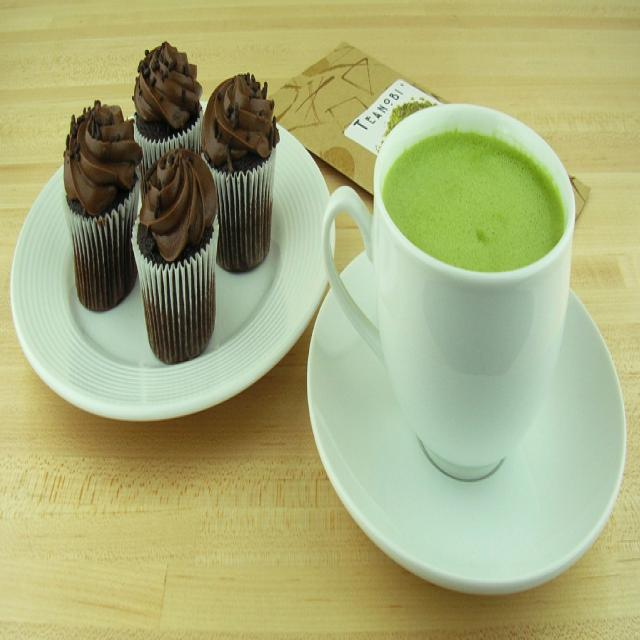Tea: (384, 132, 564, 272)
